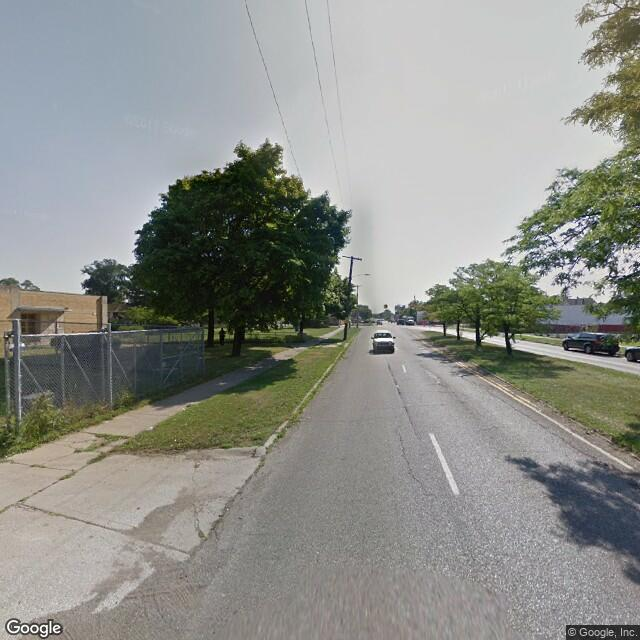litter: (144, 421, 158, 431)
